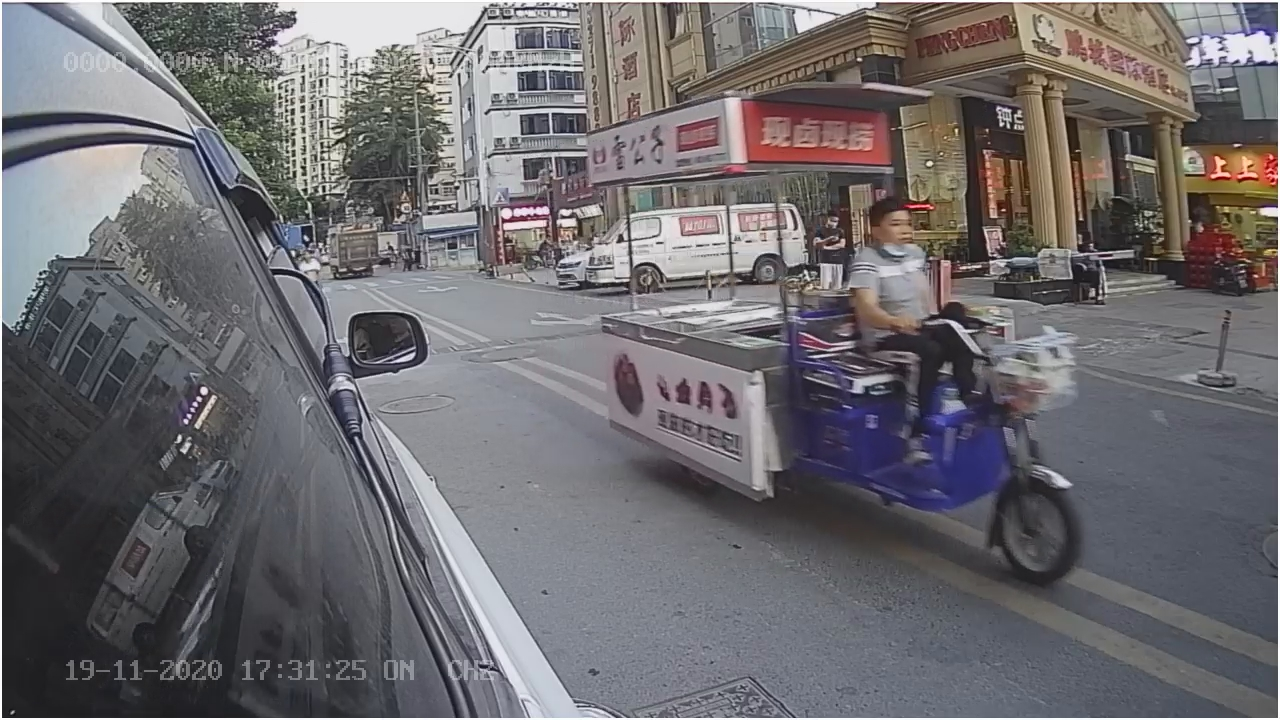person: (853, 197, 949, 324)
